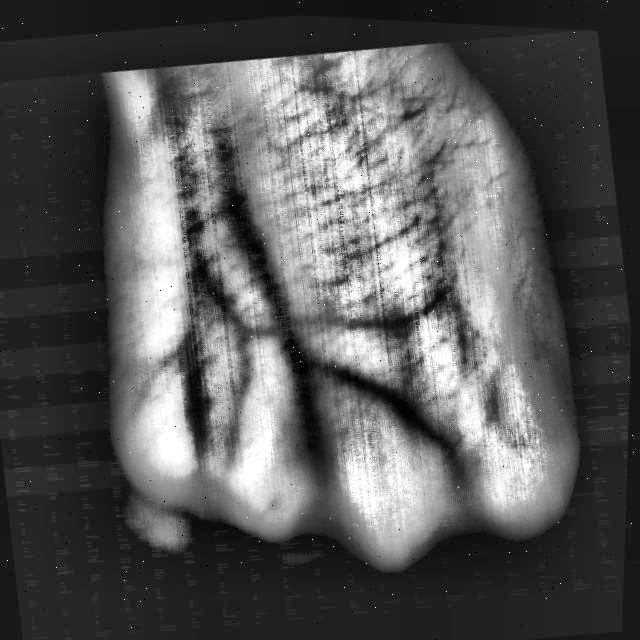Vein: (210, 149, 306, 357)
